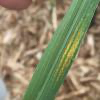Corn rust leaf: (33, 1, 99, 99)
